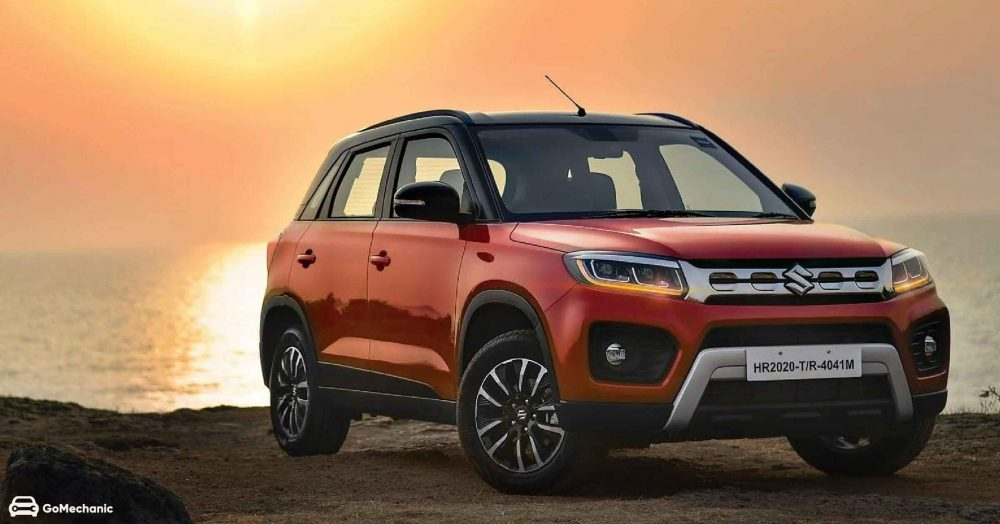car: (259, 107, 950, 496)
